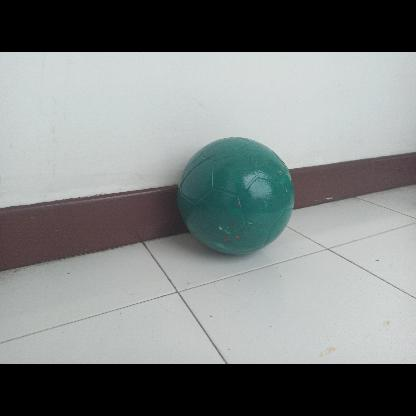green_ball: (179, 135, 295, 251)
